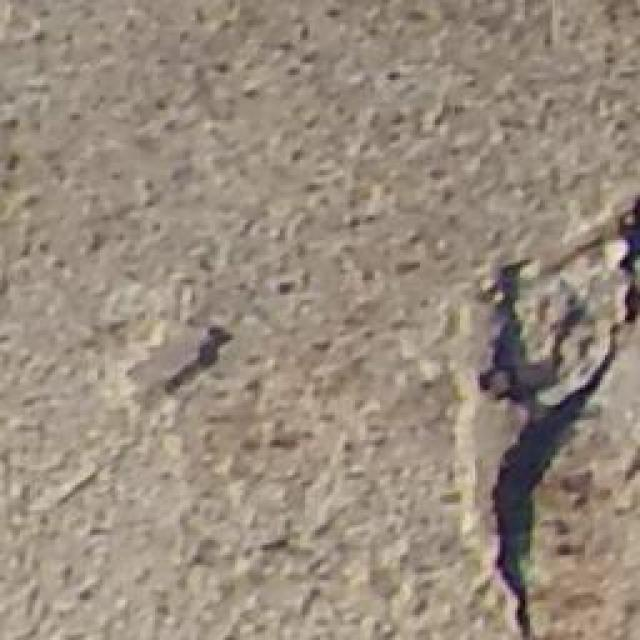concrete-crack: (433, 188, 640, 640)
